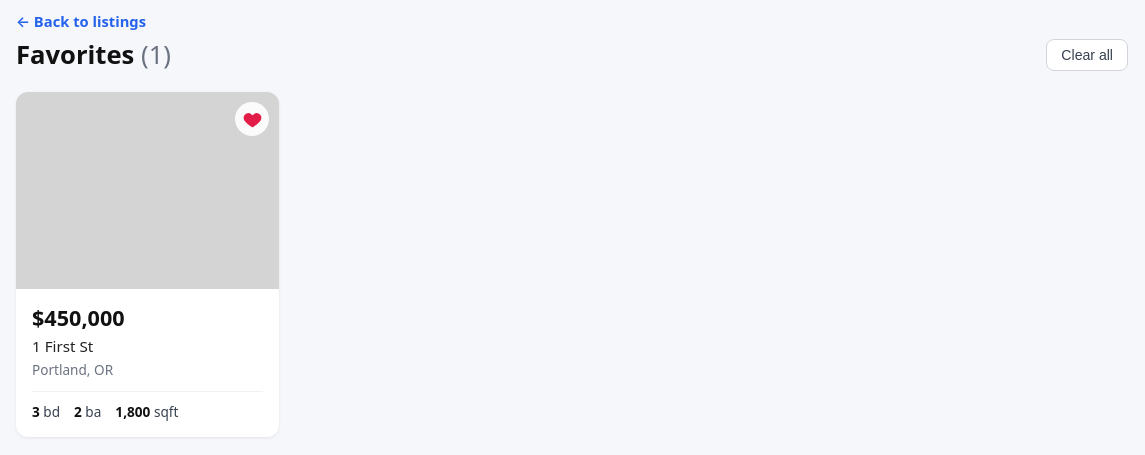
Scenario: FavoritesPage › clears every favorite with Clear all
Check: the text "1 First St" is shown, box [32,336,93,356]
Step 1. Click the button "Clear all" → (1087, 54), box [1046,38,1128,70]
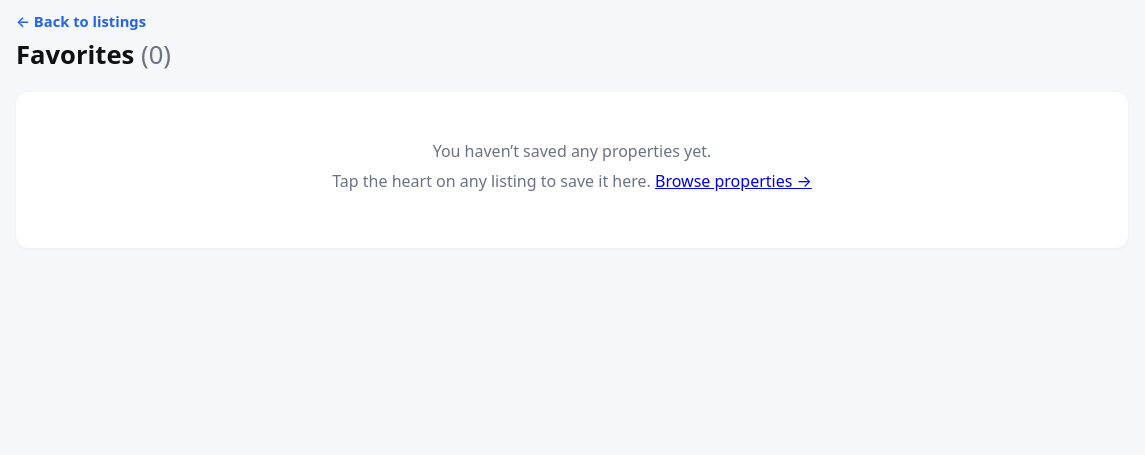
Check: the text "You haven’t saved any properties yet." is shown, box [433,140,711,162]
